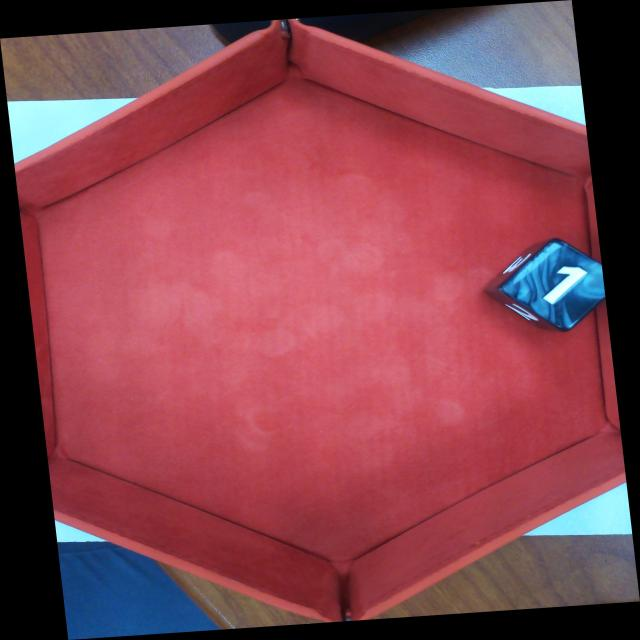dice: (499, 244, 602, 331)
